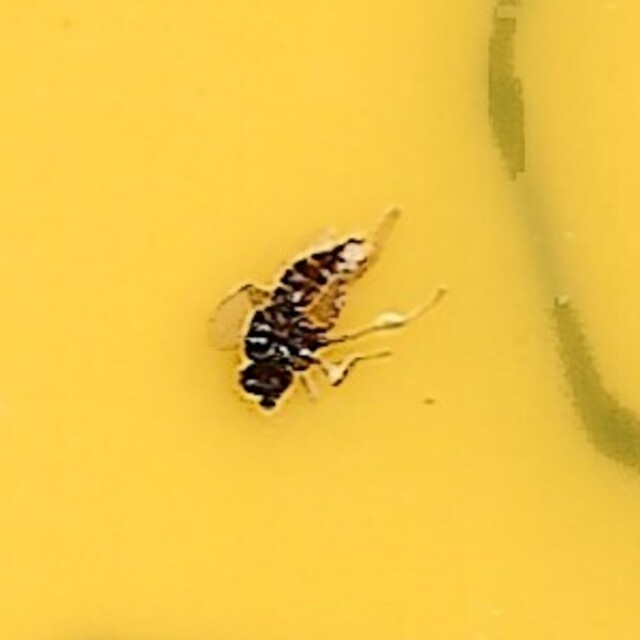Brachycera: (213, 221, 427, 419)
